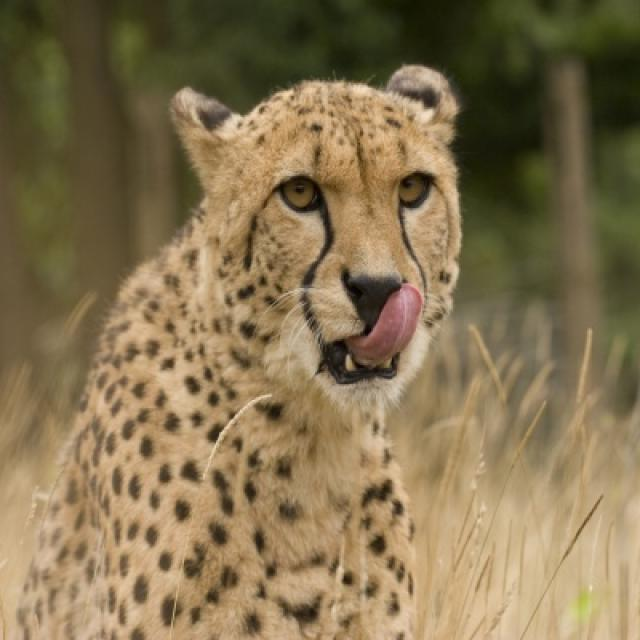Cheetah: (21, 66, 459, 638)
